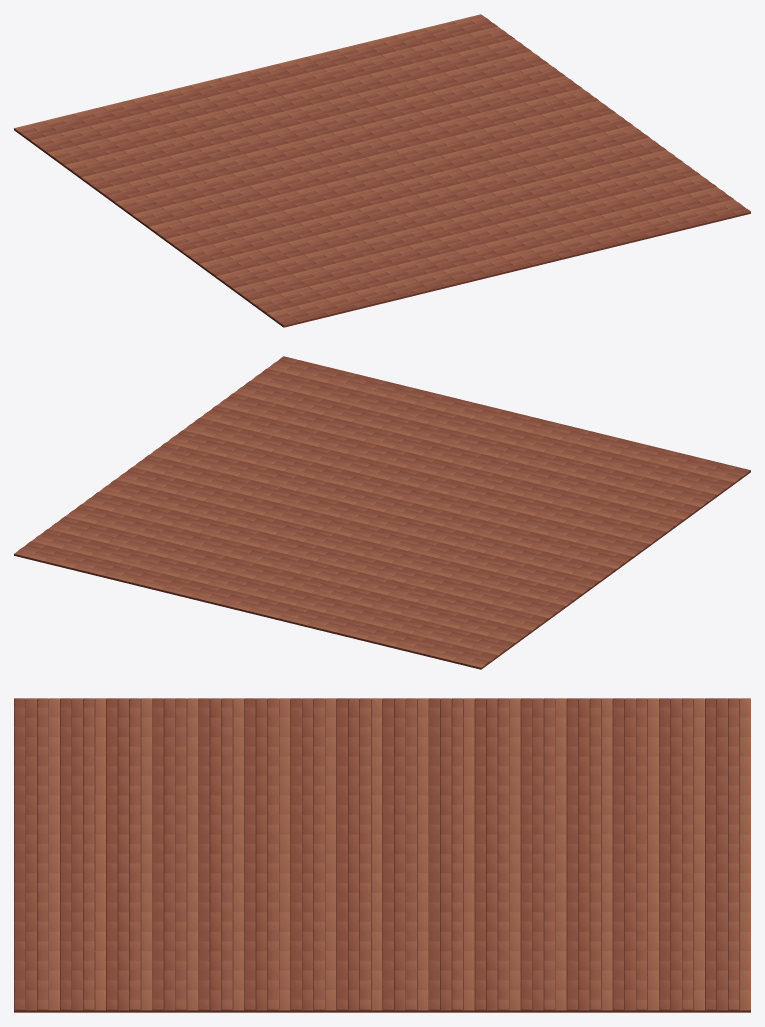
Rendered from floor_tile_wood.glb.
The picture shows the model from 3 angles, top to bottom: view 1: azimuth 30°, elevation 25°; view 2: azimuth 150°, elevation 25°; view 3: azimuth 270°, elevation 25°; orthographic projection. The views are drawn at different scales.
Visible parts, largest first — view 1: floor_wood_large.001; view 2: floor_wood_large.001; view 3: floor_wood_large.001.
Part boxes in pixels (x1,y1,x2,y2): floor_wood_large.001: (14, 14, 750, 327); floor_wood_large.001: (14, 356, 750, 669); floor_wood_large.001: (14, 698, 750, 1012).
Size of the model in its own units: 32 by 0.15 by 32.
1 material, 1 textured.
